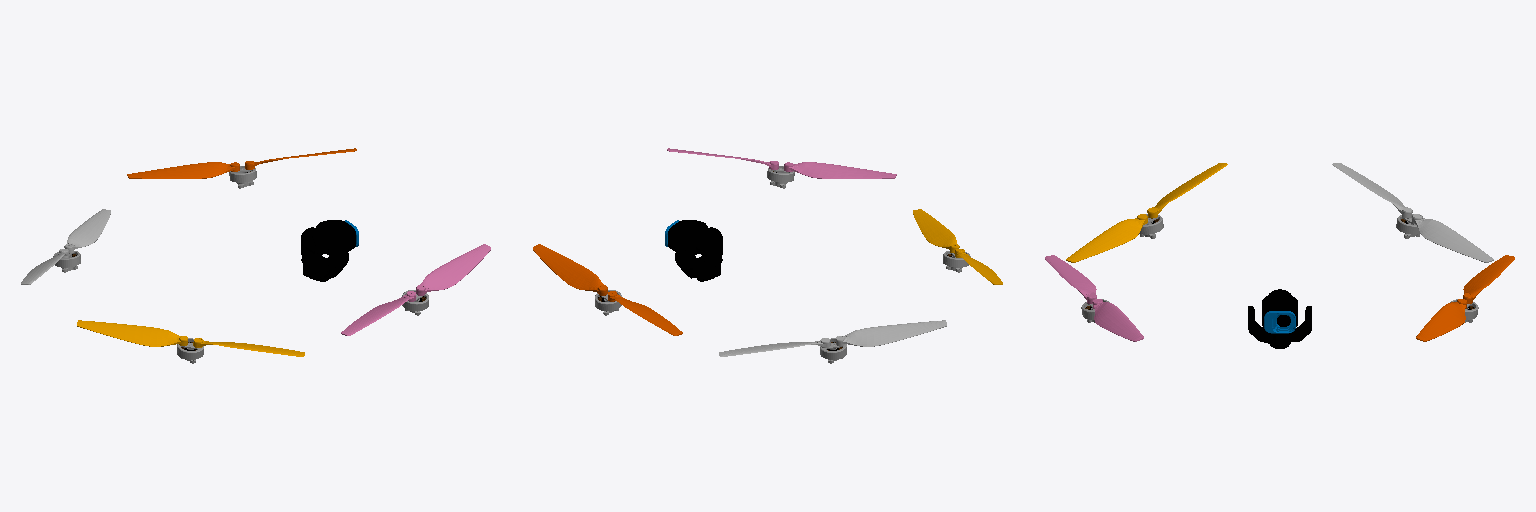
URDF robot description (DJI Mini 3 Pro):
<robot name="DJI Mini 3 Pro">
  <link name="base_link"/>

  <joint name="body_joint" type="fixed">
    <parent link="base_link"/>
    <child  link="body_link"/>
    <origin xyz="0 0 0" rpy="0 -0.2495821 0"/>
  </joint>

  <link name="body_link">
    <visual>
      <geometry>
        <mesh filename="package://dji_drone_description/meshes/mini3pro/body.dae" />
      </geometry>
      <origin xyz="0 0 0" rpy="0 0 0"/>
    </visual>
  </link>

  <joint name="pitch_joint" type="revolute">
    <parent link="body_link"/>
    <child  link="gimbal_0_link"/>
    <origin xyz="0.031301 0 0.016852" rpy="0 0.2495821 0"/>
    <axis xyz="0 1 0"/>
    <limit lower="-2.356194" upper="1.396263" effort="0" velocity="0"/>
  </joint>

  <link name="gimbal_0_link">
    <visual>
      <geometry>
        <mesh filename="package://dji_drone_description/meshes/mini3pro/gimbal_0.dae" />
      </geometry>
      <origin xyz="0 0 0" rpy="0 0 0"/>
    </visual>
  </link>

  <joint name="yaw_joint" type="revolute">
    <parent link="gimbal_0_link"/>
    <child  link="gimbal_1_link"/>
    <origin xyz="-0.004329 -0.00045 -0.012159" rpy="0 0 0"/>
    <axis xyz="0.360035 0 0.932939"/>
    <limit lower="-0.523599" upper="0.523599" effort="0" velocity="0"/>
  </joint>

  <link name="gimbal_1_link">
    <visual>
      <geometry>
        <mesh filename="package://dji_drone_description/meshes/mini3pro/gimbal_1.dae" />
      </geometry>
      <origin xyz="0 0 0" rpy="0 0 0"/>
    </visual>
  </link>

  <joint name="roll_joint" type="revolute">
    <parent link="gimbal_1_link"/>
    <child  link="camera_link"/>
    <origin xyz="0.000056 -0.000012 0.018293" rpy="0 0 0"/>
    <axis xyz="1 0 0"/>
    <limit lower="-2.356194" upper="0.785398" effort="0" velocity="0"/>
  </joint>

  <link name="camera_link">
    <visual>
      <geometry>
        <mesh filename="package://dji_drone_description/meshes/mini3pro/camera.dae" />
      </geometry>
      <origin xyz="0 0 0" rpy="0 0 0"/>
    </visual>
  </link>

  <joint name="motor_lf_joint" type="continuous">
    <parent link="body_link"/>
    <child  link="motor_lf_link"/>
    <origin xyz="0.03567 0.112728 0.020459" rpy="0 0 0"/>
    <axis xyz="-0.229562 -0.131032 -0.964434"/>
  </joint>  

    <link name="motor_lf_link">
    <visual>
      <geometry>
        <mesh filename="package://dji_drone_description/meshes/mini3pro/motor_lf.dae" />
      </geometry>
      <origin xyz="0 0 0" rpy="0 0 0"/>
    </visual>
  </link>

  <joint name="motor_rf_joint" type="continuous">
    <parent link="body_link"/>
    <child  link="motor_rf_link"/>
    <origin xyz="0.03567 -0.113628 0.020459" rpy="0 0 0"/>
    <axis xyz="0.229562 -0.131032 0.964434"/>
  </joint>  

  <link name="motor_rf_link">
    <visual>
      <geometry>
        <mesh filename="package://dji_drone_description/meshes/mini3pro/motor_rf.dae" />
      </geometry>
      <origin xyz="0 0 0" rpy="0 0 0"/>
    </visual>
  </link>

  <joint name="motor_lb_joint" type="continuous">
    <parent link="body_link"/>
    <child  link="motor_lb_link"/>
    <origin xyz="-0.115162 0.080307 0.045549" rpy="0 0 0"/>s
    <axis xyz="0.235748 0.119758 0.964407"/>
  </joint>  

  <link name="motor_lb_link">
    <visual>
      <geometry>
        <mesh filename="package://dji_drone_description/meshes/mini3pro/motor_lb.dae" />
      </geometry>
      <origin xyz="0 0 0" rpy="0 0 0"/>
    </visual>
  </link>

  <joint name="motor_rb_joint" type="continuous">
    <parent link="body_link"/>
    <child  link="motor_rb_link"/>
    <origin xyz="-0.115162 -0.081207 0.045549" rpy="0 0 0"/>
    <axis xyz="-0.235819 0.119797 -0.964385"/>
  </joint>  

    <link name="motor_rb_link">
    <visual>
      <geometry>
        <mesh filename="package://dji_drone_description/meshes/mini3pro/motor_rb.dae" />
      </geometry>
      <origin xyz="0 0 0" rpy="0 0 0"/>
    </visual>
  </link>
</robot>

--- What the picture shows (computed from the rendered views, not written in the file) ---
3 views of the same robot in one strip: view 1: azimuth 30°, elevation 25°; view 2: azimuth 150°, elevation 25°; view 3: azimuth 270°, elevation 25° (orthographic).
Model DJI Mini 3 Pro with 9 links and 8 joints (3 revolute, 4 continuous, 1 fixed), rooted at base_link, posed all joints at 0.
Links seen in each view (by area): view 1: motor_rf_link, motor_rb_link, motor_lf_link, motor_lb_link, gimbal_1_link, camera_link, gimbal_0_link; view 2: motor_lf_link, motor_lb_link, motor_rf_link, motor_rb_link, gimbal_1_link, camera_link, gimbal_0_link; view 3: motor_lb_link, motor_rb_link, motor_lf_link, motor_rf_link, camera_link, gimbal_0_link.
Link boxes in pixels (x1,y1,x2,y2): motor_rf_link: (341,244,490,335); motor_rb_link: (77,320,304,363); motor_lf_link: (127,148,356,188); motor_lb_link: (21,209,110,284); gimbal_1_link: (301,228,327,276); camera_link: (316,220,358,254); gimbal_0_link: (301,227,348,281); motor_lf_link: (533,244,682,335); motor_lb_link: (719,320,946,363); motor_rf_link: (667,148,896,188); motor_rb_link: (913,209,1002,284); gimbal_1_link: (696,228,722,276); camera_link: (665,220,707,254); gimbal_0_link: (675,227,722,281); motor_lb_link: (1332,163,1493,262); motor_rb_link: (1066,163,1227,262); motor_lf_link: (1416,255,1514,341); motor_rf_link: (1045,255,1143,341); camera_link: (1262,295,1297,333); gimbal_0_link: (1248,306,1311,348).
Bounding box of the posed robot: 0.2847 × 0.2912 × 0.0423 m (x, y, z).
7 mesh visuals loaded from 8 distinct referenced files (7 Collada DAE); not drawn: 1 (reference not matched to a file when rendering).